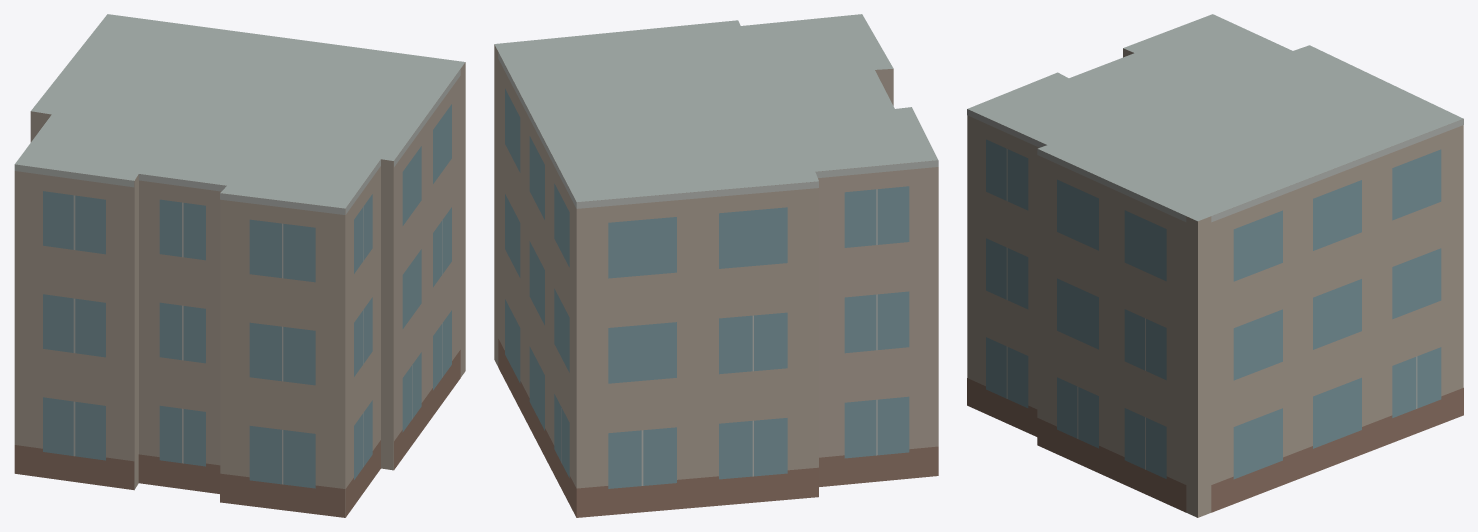
The model's file is survey-upis-32840206.glb.
3 renders of one model, left to right at view 1: azimuth 30°, elevation 25°; view 2: azimuth 150°, elevation 25°; view 3: azimuth 270°, elevation 25°, orthographic. The views are drawn at different scales.
Parts seen in each view (by area): view 1: survey-upis-32840206.tmp; view 2: survey-upis-32840206.tmp; view 3: survey-upis-32840206.tmp.
Boxes of the visible parts, box(x1,y1,x2,y2) form: survey-upis-32840206.tmp: box(14, 14, 465, 517); survey-upis-32840206.tmp: box(494, 14, 938, 517); survey-upis-32840206.tmp: box(967, 14, 1463, 517).
Size of the model in its own units: 17.24 by 11.5 by 17.45.
